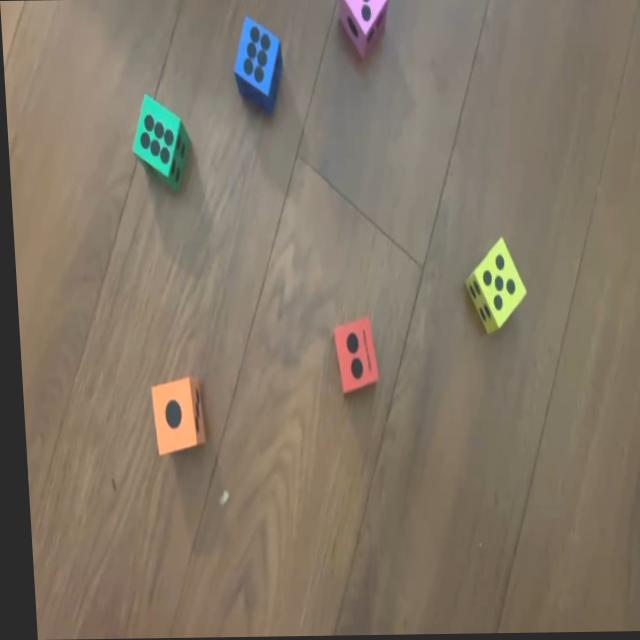cube: (127, 93, 189, 186), (229, 11, 283, 110), (326, 317, 376, 394)
